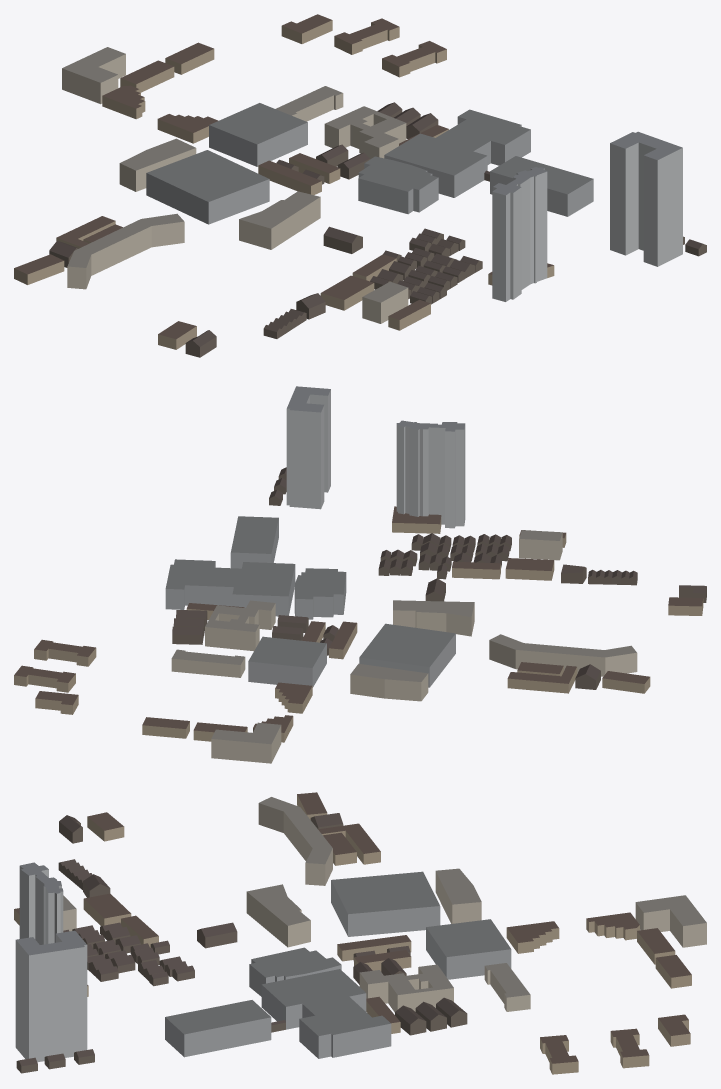
File: tile_2_4.glb
3 views of the same model, one above another, from view 1: azimuth 30°, elevation 25°; view 2: azimuth 150°, elevation 25°; view 3: azimuth 270°, elevation 25° (orthographic). The views are drawn at different scales.
Parts seen in each view (by area): view 1: HP-w293414308, HP-w307455606, HP-w293397477, HP-w859457464, HP-w859457478, HP-w293414348, HP-w293414311, HP-r11759371, HP-w293414347, HP-w761940188, HP-w859457481, HP-w859457465 (+20 smaller); view 2: HP-w293397477, HP-w307455606, HP-w293414308, HP-w859457464, HP-w293414348, HP-w859457478, HP-r11759371, HP-w293414347, HP-w293414311, HP-w859457465, HP-w859457481, HP-w761940188 (+14 smaller); view 3: HP-w293414308, HP-w307455606, HP-w859457464, HP-w761940188, HP-w859457478, HP-w293397477, HP-w293414348, HP-r11759371, HP-w293414347, HP-w859457481, HP-w293414311, HP-w859457465 (+23 smaller).
Part boxes in pixels (box(x1,y1,x2,y2)): HP-w293414308: box(610, 131, 682, 266); HP-w307455606: box(384, 109, 530, 197); HP-w293397477: box(492, 167, 547, 301); HP-w859457464: box(146, 150, 269, 224); HP-w859457478: box(209, 103, 307, 166); HP-w293414348: box(67, 213, 184, 289); HP-w293414311: box(358, 156, 438, 214); HP-r11759371: box(324, 106, 406, 159); HP-w293414347: box(239, 191, 320, 249); HP-w761940188: box(490, 156, 593, 216); HP-w859457481: box(62, 47, 125, 104); HP-w859457465: box(119, 138, 196, 191); HP-w293397477: box(396, 420, 465, 528); HP-w307455606: box(165, 559, 295, 616); HP-w293414308: box(286, 386, 330, 509); HP-w859457464: box(359, 623, 455, 687); HP-w293414348: box(489, 634, 637, 676); HP-w859457478: box(248, 636, 326, 687); HP-r11759371: box(205, 600, 275, 651); HP-w293414347: box(393, 600, 474, 636); HP-w293414311: box(294, 568, 346, 619); HP-w859457465: box(350, 663, 428, 701); HP-w859457481: box(211, 722, 281, 763); HP-w761940188: box(230, 516, 278, 568); HP-w293414308: box(15, 930, 87, 1062); HP-w307455606: box(261, 969, 391, 1058); HP-w859457464: box(331, 871, 440, 936); HP-w761940188: box(165, 1000, 271, 1057); HP-w859457478: box(426, 919, 511, 979); HP-w293397477: box(19, 862, 63, 944); HP-w293414348: box(258, 797, 332, 885); HP-r11759371: box(359, 964, 453, 1012); HP-w293414347: box(246, 884, 310, 947); HP-w859457481: box(635, 895, 706, 947); HP-w293414311: box(249, 947, 341, 996); HP-w859457465: box(435, 868, 481, 923).
Size of the model in its own units: 485 by 90 by 523.
